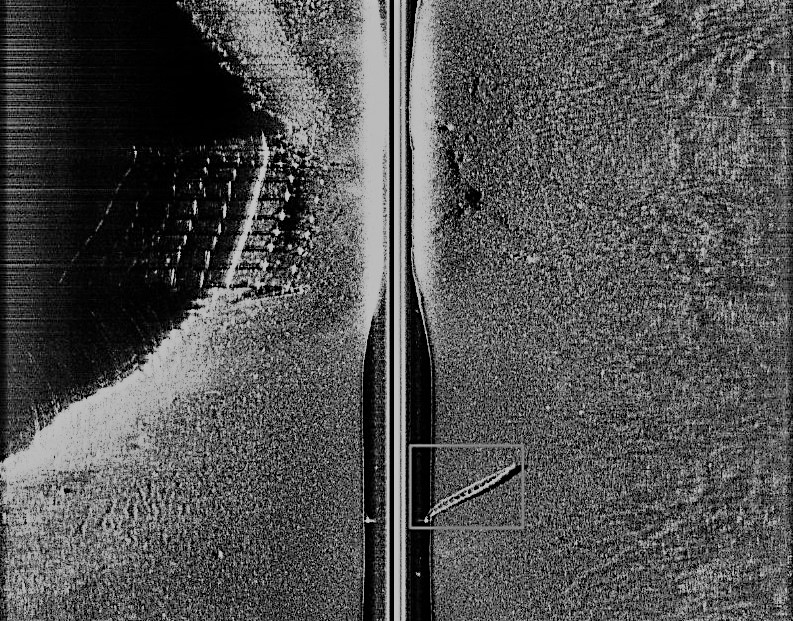ship: (417, 457, 520, 522)
